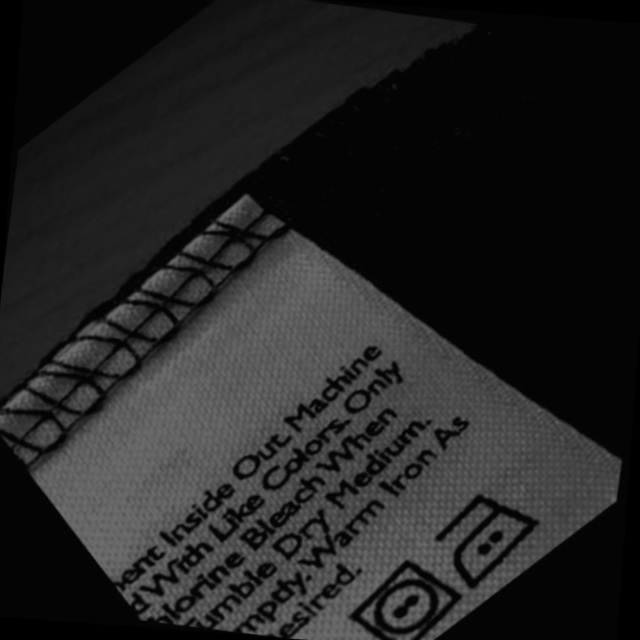iron_medium: (431, 488, 549, 594)
tumble_dry_medium: (348, 555, 469, 640)
